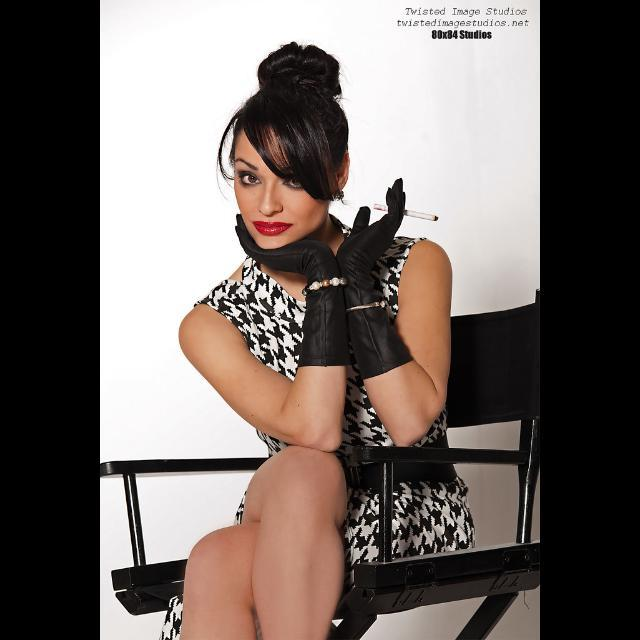rokok: (370, 197, 444, 225)
